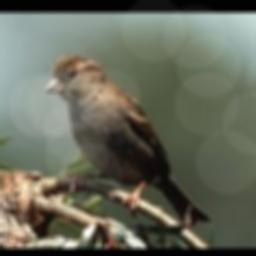Sparrow: (44, 52, 209, 227)
